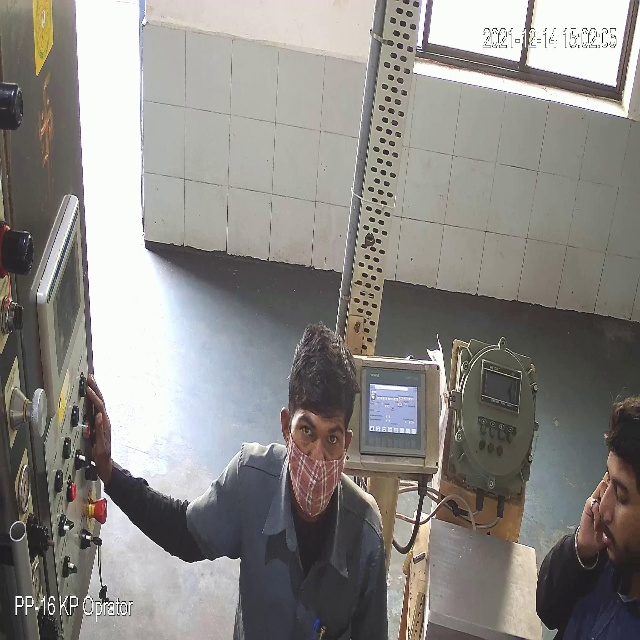Sin_gafas: (292, 420, 348, 461), (607, 469, 640, 505)
Sin_mascara: (602, 499, 640, 568)
